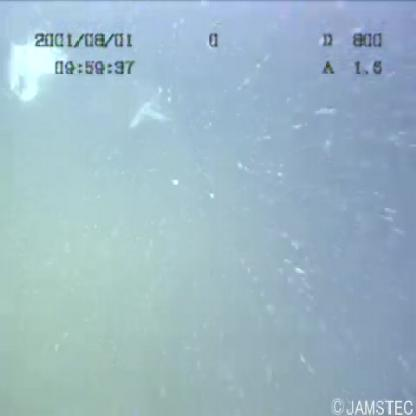Rác: (1, 15, 80, 116), (119, 86, 172, 135)
